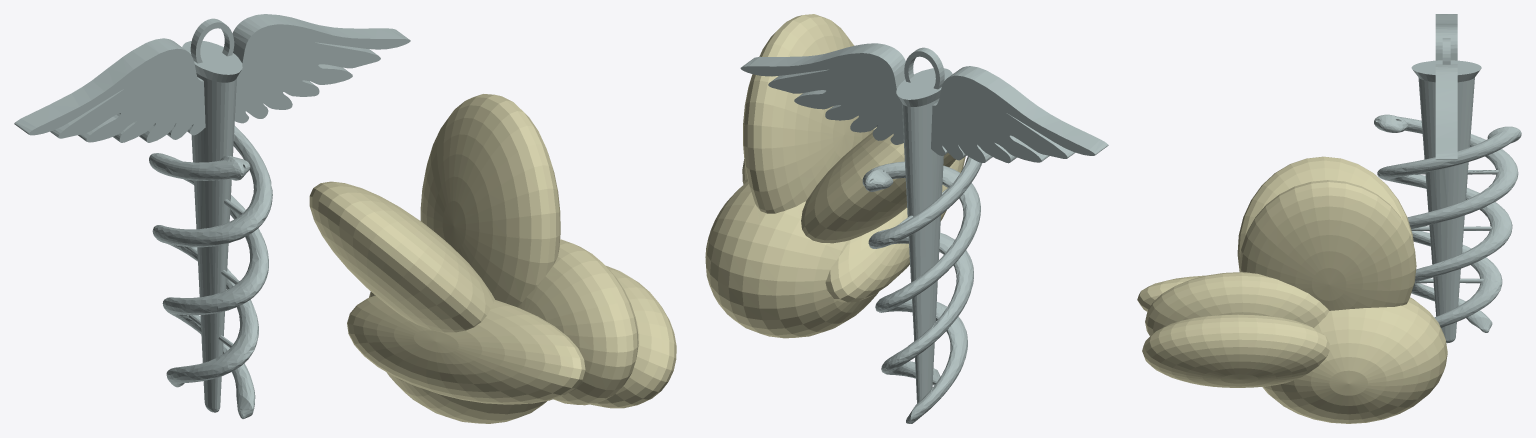
File: Cool.glb
3 views of the same model, side by side, from view 1: azimuth 30°, elevation 25°; view 2: azimuth 150°, elevation 25°; view 3: azimuth 270°, elevation 25° (orthographic). The views are drawn at different scales.
Parts seen in each view (by area): view 1: Mesh_Mesh_head_geo.001_lambert2SG.001; view 2: Mesh_Mesh_head_geo.001_lambert2SG.001; view 3: Mesh_Mesh_head_geo.001_lambert2SG.001.
Boxes of the visible parts, bbox=[...] form: Mesh_Mesh_head_geo.001_lambert2SG.001: bbox=[14, 14, 676, 423]; Mesh_Mesh_head_geo.001_lambert2SG.001: bbox=[705, 14, 1108, 423]; Mesh_Mesh_head_geo.001_lambert2SG.001: bbox=[1137, 14, 1521, 423].
Size of the model in its own units: 47 by 35.69 by 41.
